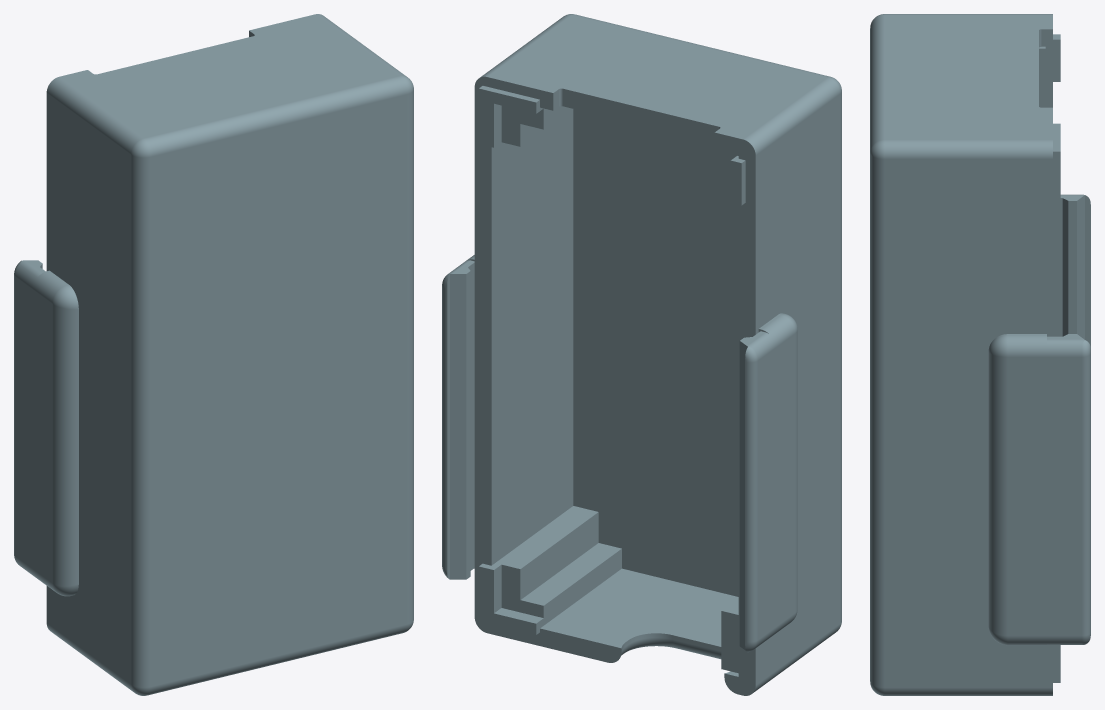
File: shell-bottom.glb
3 renders of one model, left to right at view 1: azimuth 30°, elevation 25°; view 2: azimuth 150°, elevation 25°; view 3: azimuth 270°, elevation 25°, orthographic.
Visible parts, largest first — view 1: shell-bottom; view 2: shell-bottom; view 3: shell-bottom.
Boxes of the visible parts, x1,y1,x2,y2 form: shell-bottom: (14,14,413,695); shell-bottom: (442,14,841,695); shell-bottom: (870,14,1090,695).
Size of the model in its own units: 37.3 by 62.97 by 22.7.
